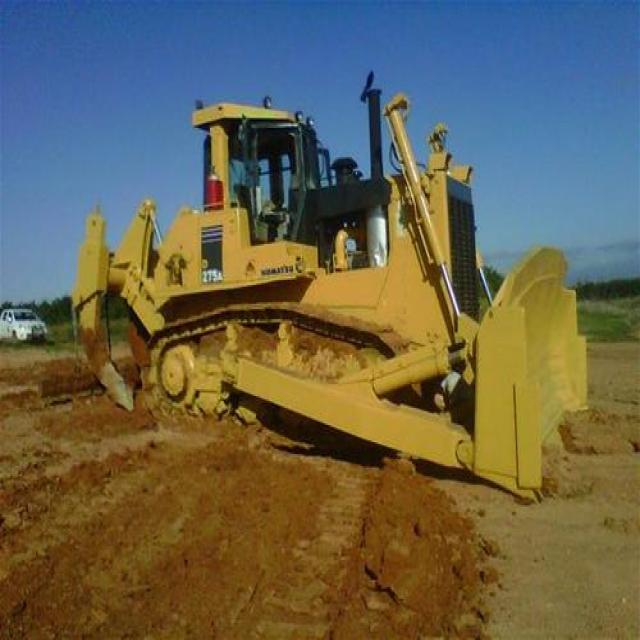buldozerpayloadergrader: (41, 68, 591, 516)
light_vehicle: (2, 292, 48, 355)
